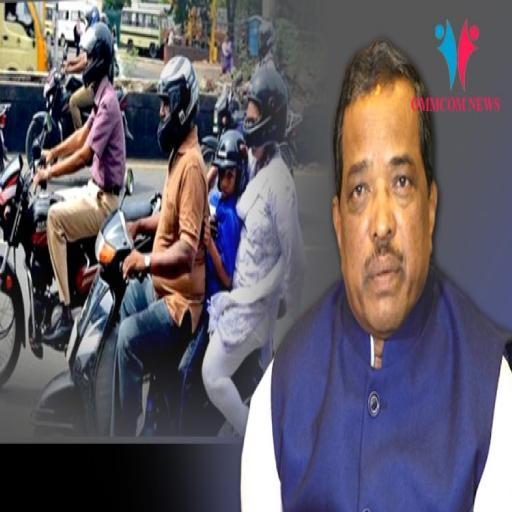helmet: (103, 42, 210, 436), (26, 14, 123, 332)
